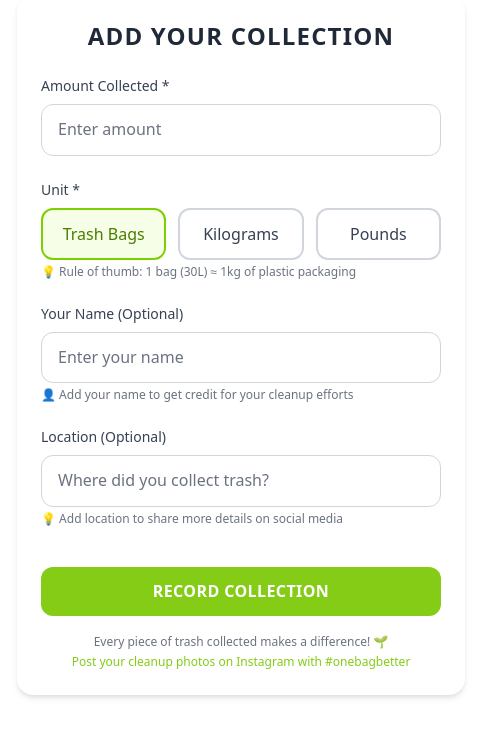
Test: CollectionEntryForm › should display validation errors in the correct language
This screenshot has width=483, height=740.
Try to submit without entering amount
What coordinates should you click on to do the following:
click the button "Record Collection"
I would click on:
 (241, 592)
Its box is left=41, top=567, right=441, bottom=616.
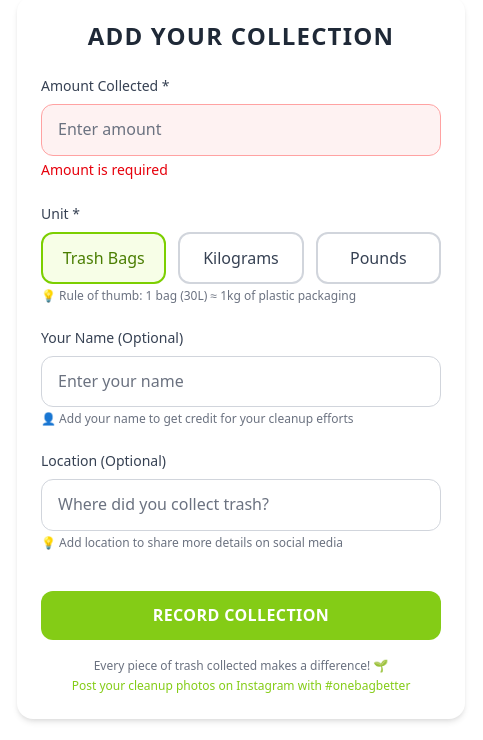
Check: the text "Amount is required" is shown, box left=41, top=160, right=168, bottom=179
